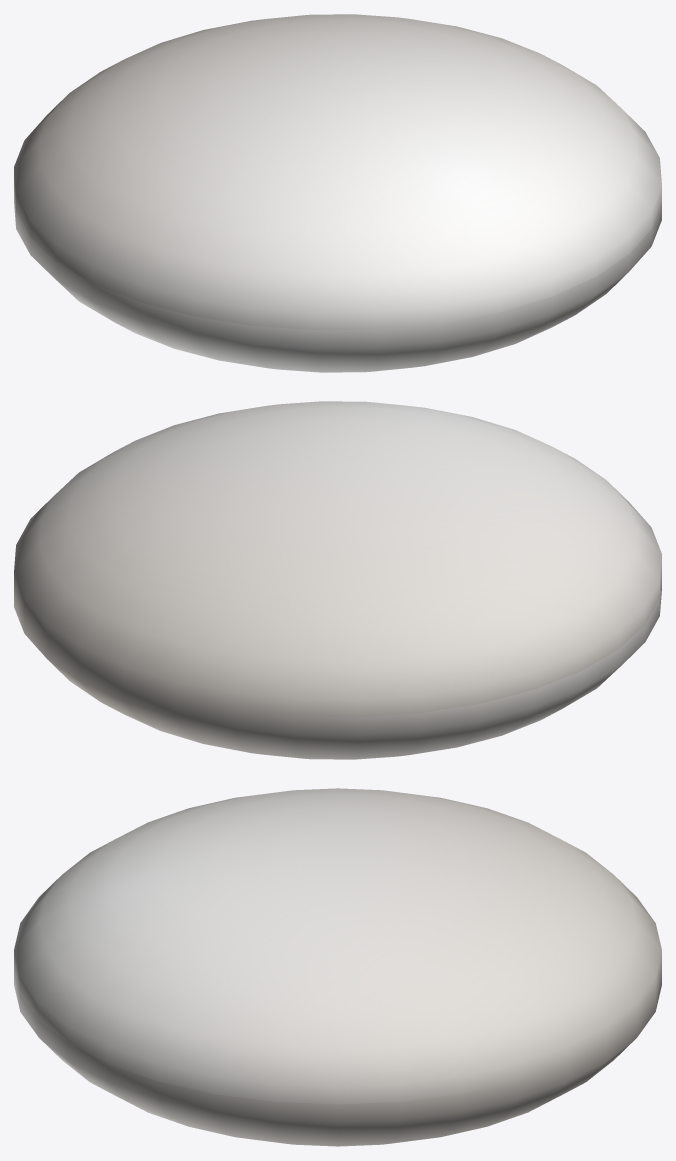
The model's file is Stone-white.glb.
3 views of the same model, one above another, from view 1: azimuth 30°, elevation 25°; view 2: azimuth 150°, elevation 25°; view 3: azimuth 270°, elevation 25° (orthographic).
Visible parts, largest first — view 1: Stone-white; view 2: Stone-white; view 3: Stone-white.
Part boxes in pixels (box(x1,y1,x2,y2)): Stone-white: box(14, 14, 661, 372); Stone-white: box(14, 401, 661, 759); Stone-white: box(14, 788, 661, 1146).
Bounding box in the file's own units: 0.0264 × 0.0105 × 0.0264.
1 material, 1 textured.
